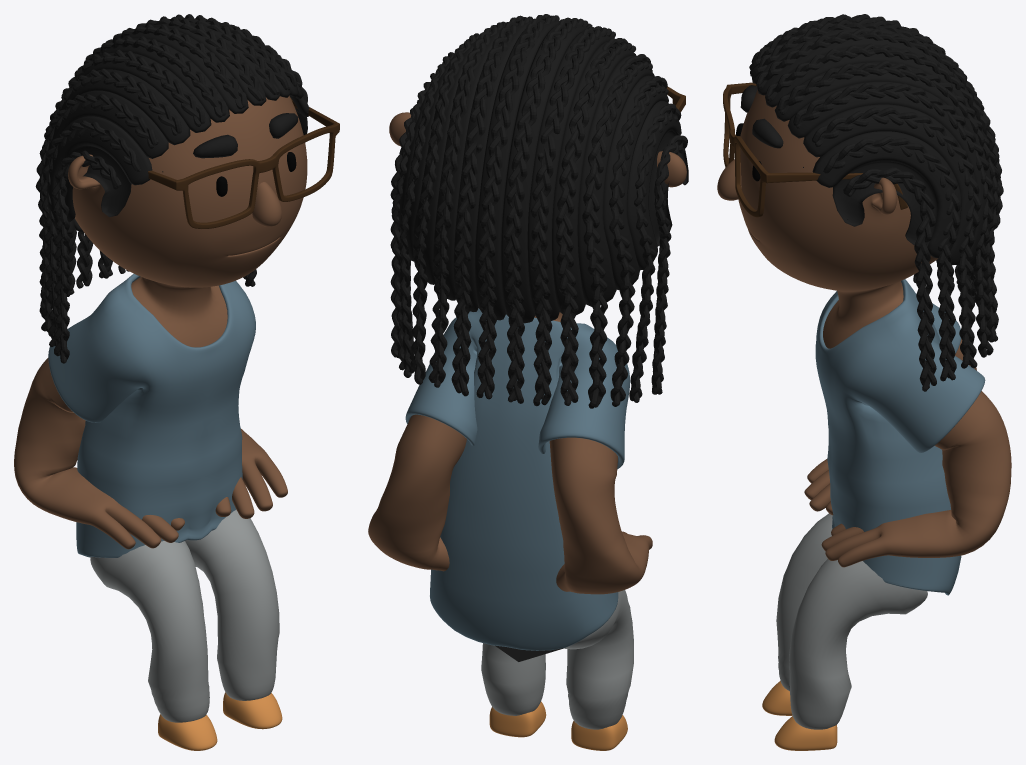
File: game_designer.gltf
3 renders of one model, left to right at view 1: azimuth 30°, elevation 25°; view 2: azimuth 150°, elevation 25°; view 3: azimuth 270°, elevation 25°, orthographic. The views are drawn at different scales.
Visible parts, largest first — view 1: body.002, T-shirt, hair_11, Cube.020, Cube.019, eyeglass_3, Cube.021, Cube.022, Eyebrow.002, nose.002; view 2: hair_11, T-shirt, body.002, Cube.020, Cube.019, Cube.022, Cube.021; view 3: hair_11, body.002, T-shirt, Cube.019, Cube.020, eyeglass_3, Cube.022, Eyebrow.002, Cube.021, nose.002.
Part boxes in pixels (x1,y1,x2,y2): body.002: (14,95,307,549); T-shirt: (48,274,255,557); hair_11: (35,14,309,363); Cube.020: (90,541,209,722); Cube.019: (185,509,279,700); eyeglass_3: (148,97,339,228); Cube.021: (158,714,217,750); Cube.022: (223,692,282,729); Eyebrow.002: (193,113,298,158); nose.002: (252,182,281,226); hair_11: (390,14,688,408); T-shirt: (405,308,630,650); body.002: (368,112,686,594); Cube.020: (564,590,633,729); Cube.019: (481,643,545,715); Cube.022: (489,701,546,737); Cube.021: (571,715,627,750); hair_11: (749,14,1003,391); body.002: (738,90,1011,567); T-shirt: (815,279,985,595); Cube.019: (789,559,927,729); Cube.020: (776,513,832,691); eyeglass_3: (723,82,907,217); Cube.022: (774,716,837,750); Eyebrow.002: (740,85,783,148); Cube.021: (762,681,792,715); nose.002: (717,159,741,200).
Size of the model in its own units: 4.68 by 12.03 by 4.61.
